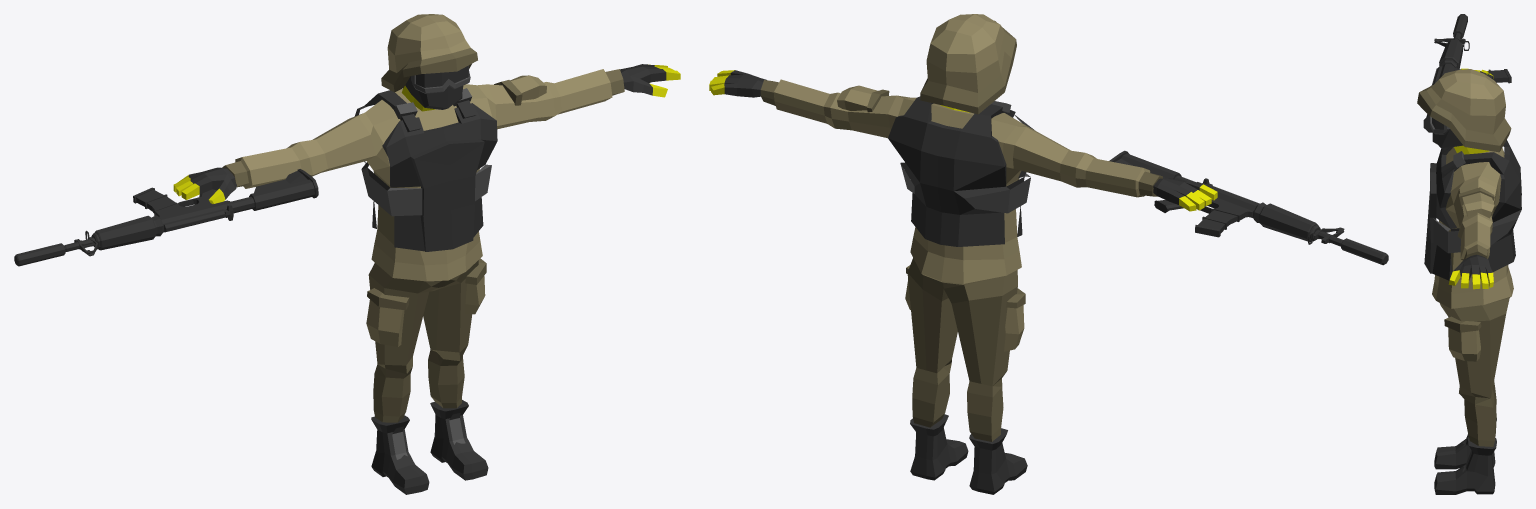
Rendered from soldier.glb.
The picture shows the model from 3 angles, left to right: view 1: azimuth 30°, elevation 25°; view 2: azimuth 150°, elevation 25°; view 3: azimuth 270°, elevation 25°; orthographic projection. The views are drawn at different scales.
Visible parts, largest first — view 1: Soldat, M4 Amo; view 2: Soldat, M4 Amo; view 3: Soldat, M4 Amo.
Boxes of the visible parts, x1=… form: Soldat: x1=173, y1=14, x2=680, y2=459; M4 Amo: x1=14, y1=64, x2=666, y2=494; Soldat: x1=709, y1=14, x2=1217, y2=441; M4 Amo: x1=724, y1=70, x2=1388, y2=494; Soldat: x1=1417, y1=68, x2=1516, y2=471; M4 Amo: x1=1423, y1=14, x2=1521, y2=494.
Bounding box in the file's own units: 49.51 × 32.38 × 7.61.
